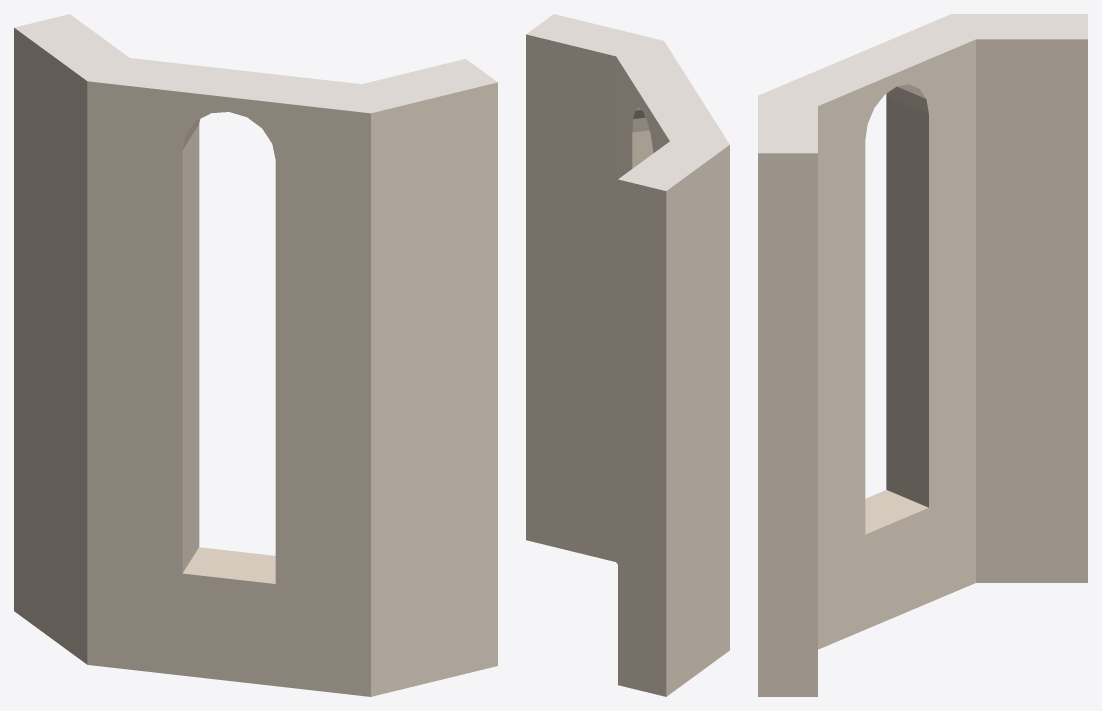
File: temple_Wall_Curved_Small_Window_Tall.glb
3 renders of one model, left to right at view 1: azimuth 30°, elevation 25°; view 2: azimuth 150°, elevation 25°; view 3: azimuth 270°, elevation 25°, orthographic. The views are drawn at different scales.
Visible parts, largest first — view 1: object1; view 2: object1; view 3: object1.
Part boxes in pixels (left/top/right/bottom): object1: left=14, top=14, right=497, bottom=696; object1: left=526, top=14, right=729, bottom=696; object1: left=758, top=14, right=1087, bottom=696.
Bounding box in the file's own units: 1.1 × 2 × 1.1.
